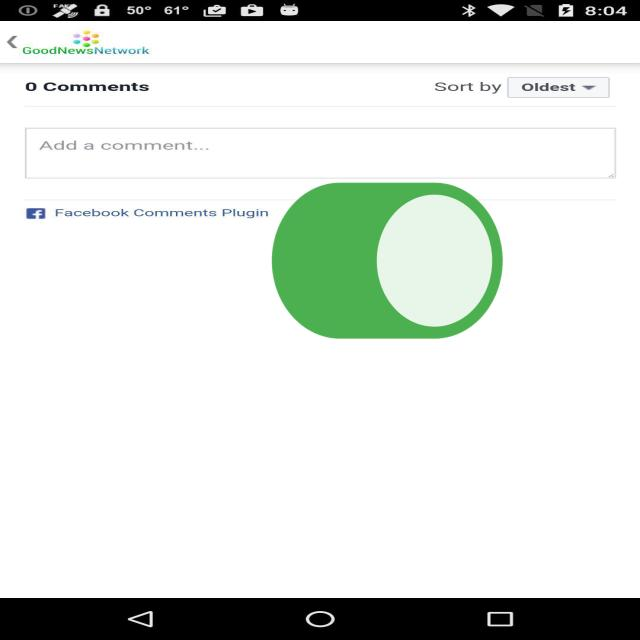social proof: (262, 122, 514, 410)
